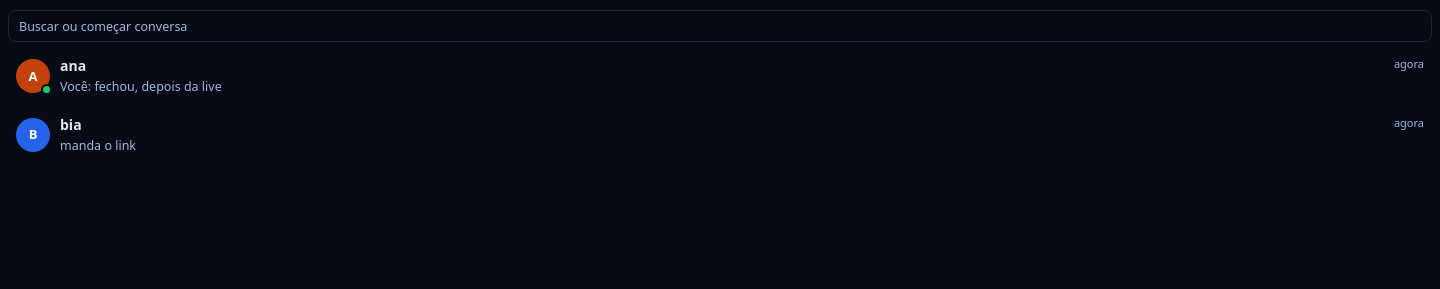
Test case: a aba Conversas › a busca filtra as conversas e oferece quem ainda não tem uma
Check: the navigation bar named "Conversas" is shown, box left=8, top=48, right=1432, bottom=164
Type "d" into the search field named "Buscar conversa" at coordinates (720, 26), box left=8, top=10, right=1432, bottom=42
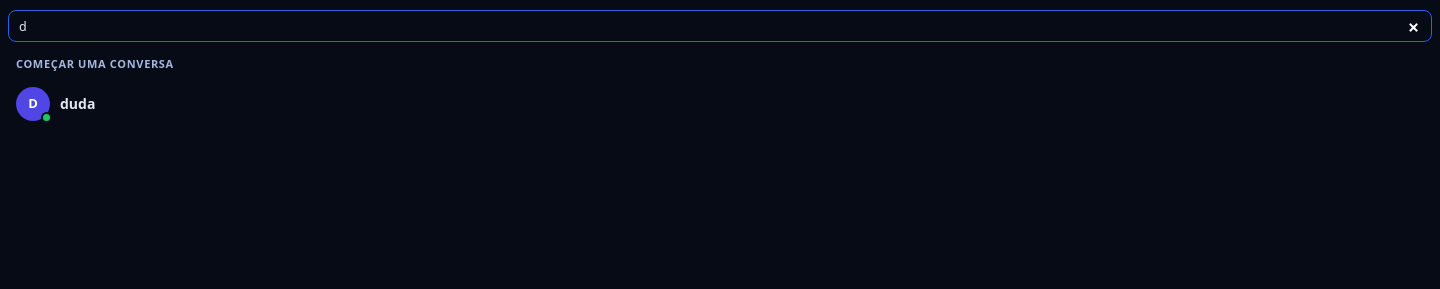
Check: the navigation bar "Conversas" is gone
Click the button "D duda" at coordinates (33, 104), box left=8, top=78, right=1432, bottom=128
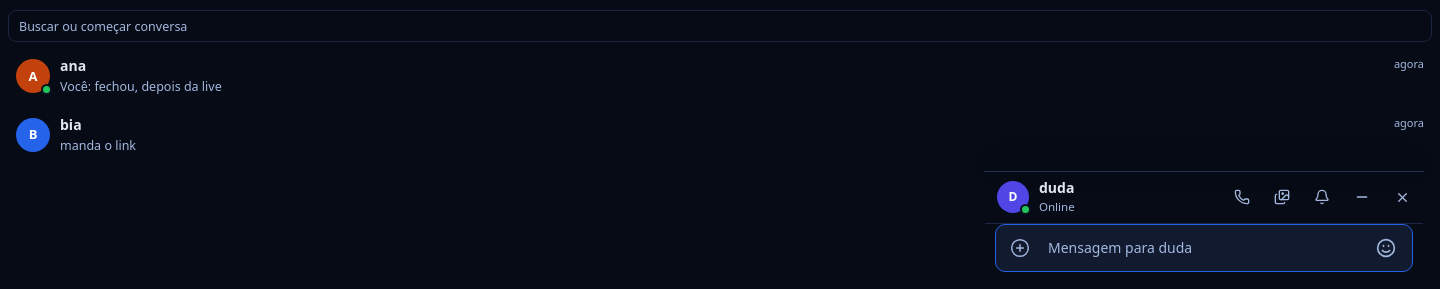
Check: the search field named "Buscar conversa" is empty, box left=8, top=10, right=1432, bottom=42
